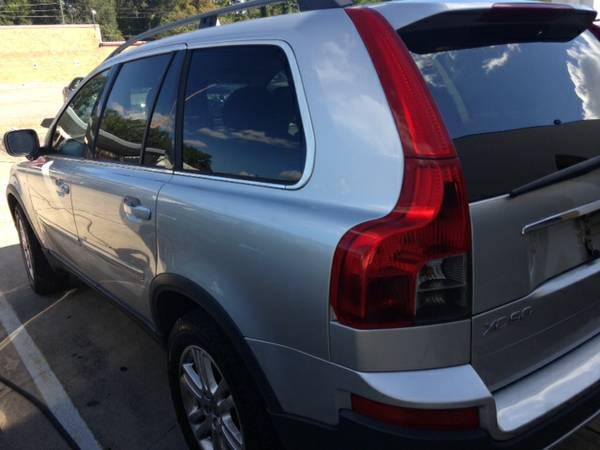volvo: (6, 5, 600, 449)
